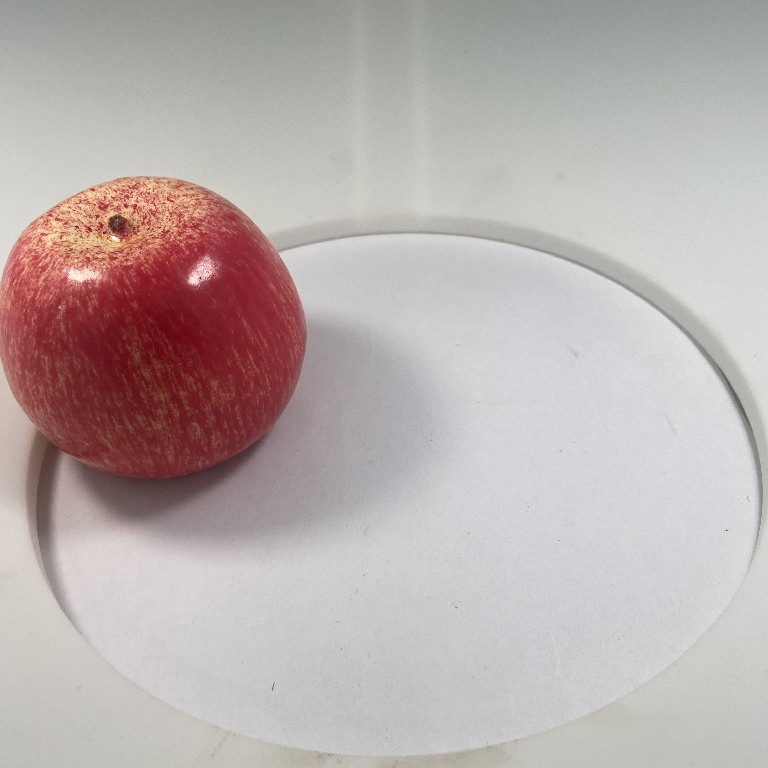fruit_apple: (1, 171, 319, 487)
